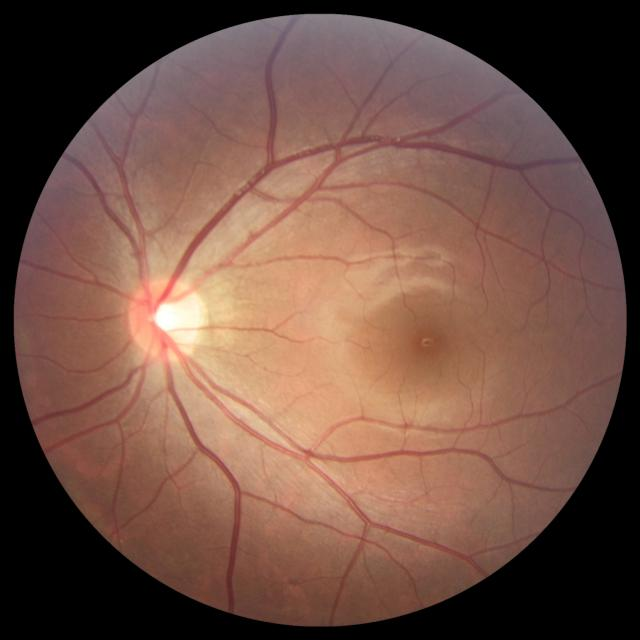OC: (148, 298, 188, 337)
OD: (127, 275, 206, 362)
